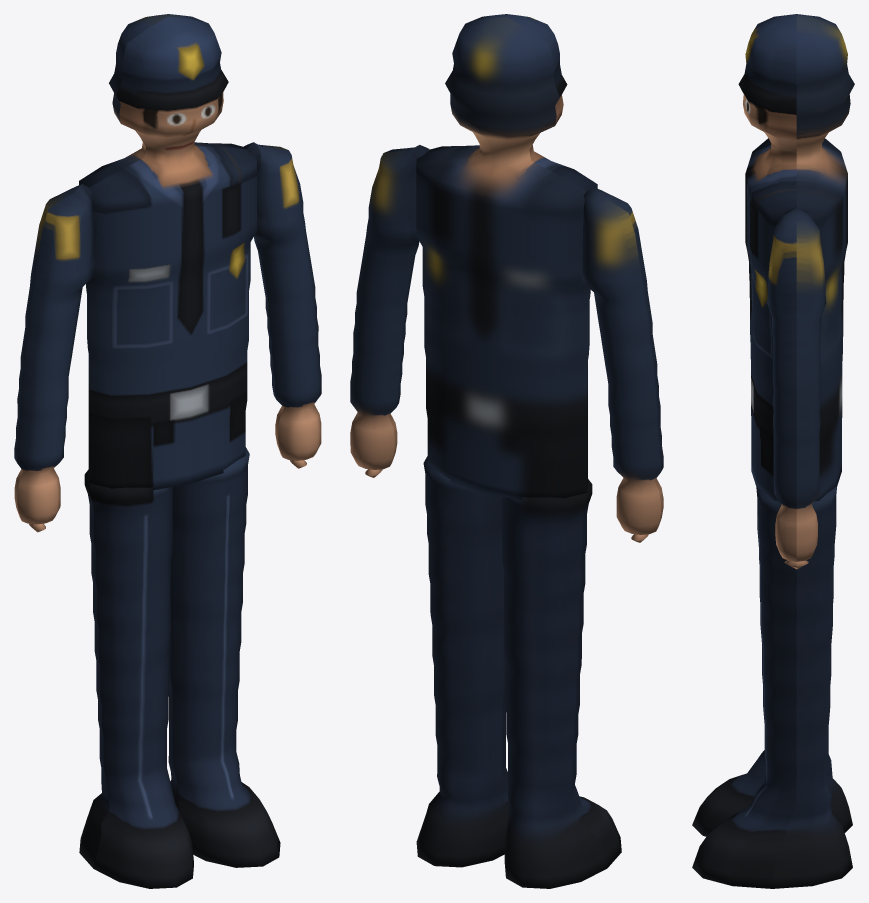
The model's file is char_police.glb.
3 views of the same model, side by side, from view 1: azimuth 30°, elevation 25°; view 2: azimuth 150°, elevation 25°; view 3: azimuth 270°, elevation 25° (orthographic). The views are drawn at different scales.
Visible parts, largest first — view 1: Torso, LegA, LegB, ArmA, ArmB; view 2: Torso, LegA, LegB, ArmA, ArmB; view 3: Torso, LegB, ArmB, LegA.
Part boxes in pixels (x1,y1,x2,y2): Torso: [79, 14, 256, 490]; LegA: [29, 469, 193, 888]; LegB: [168, 447, 306, 867]; ArmA: [14, 184, 94, 524]; ArmB: [243, 142, 321, 460]; Torso: [416, 14, 597, 499]; LegA: [502, 479, 648, 888]; LegB: [365, 456, 508, 867]; ArmA: [582, 187, 663, 534]; ArmB: [350, 145, 429, 469]; Torso: [738, 14, 854, 501]; LegB: [692, 486, 852, 888]; ArmB: [767, 207, 826, 561]; LegA: [692, 750, 852, 836].
Bounding box in the file's own units: 0.5726 × 1.5 × 0.2655.
1 material, 1 textured.
